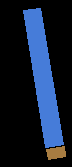parkingspot: (23, 8, 63, 147), (46, 146, 65, 159)
